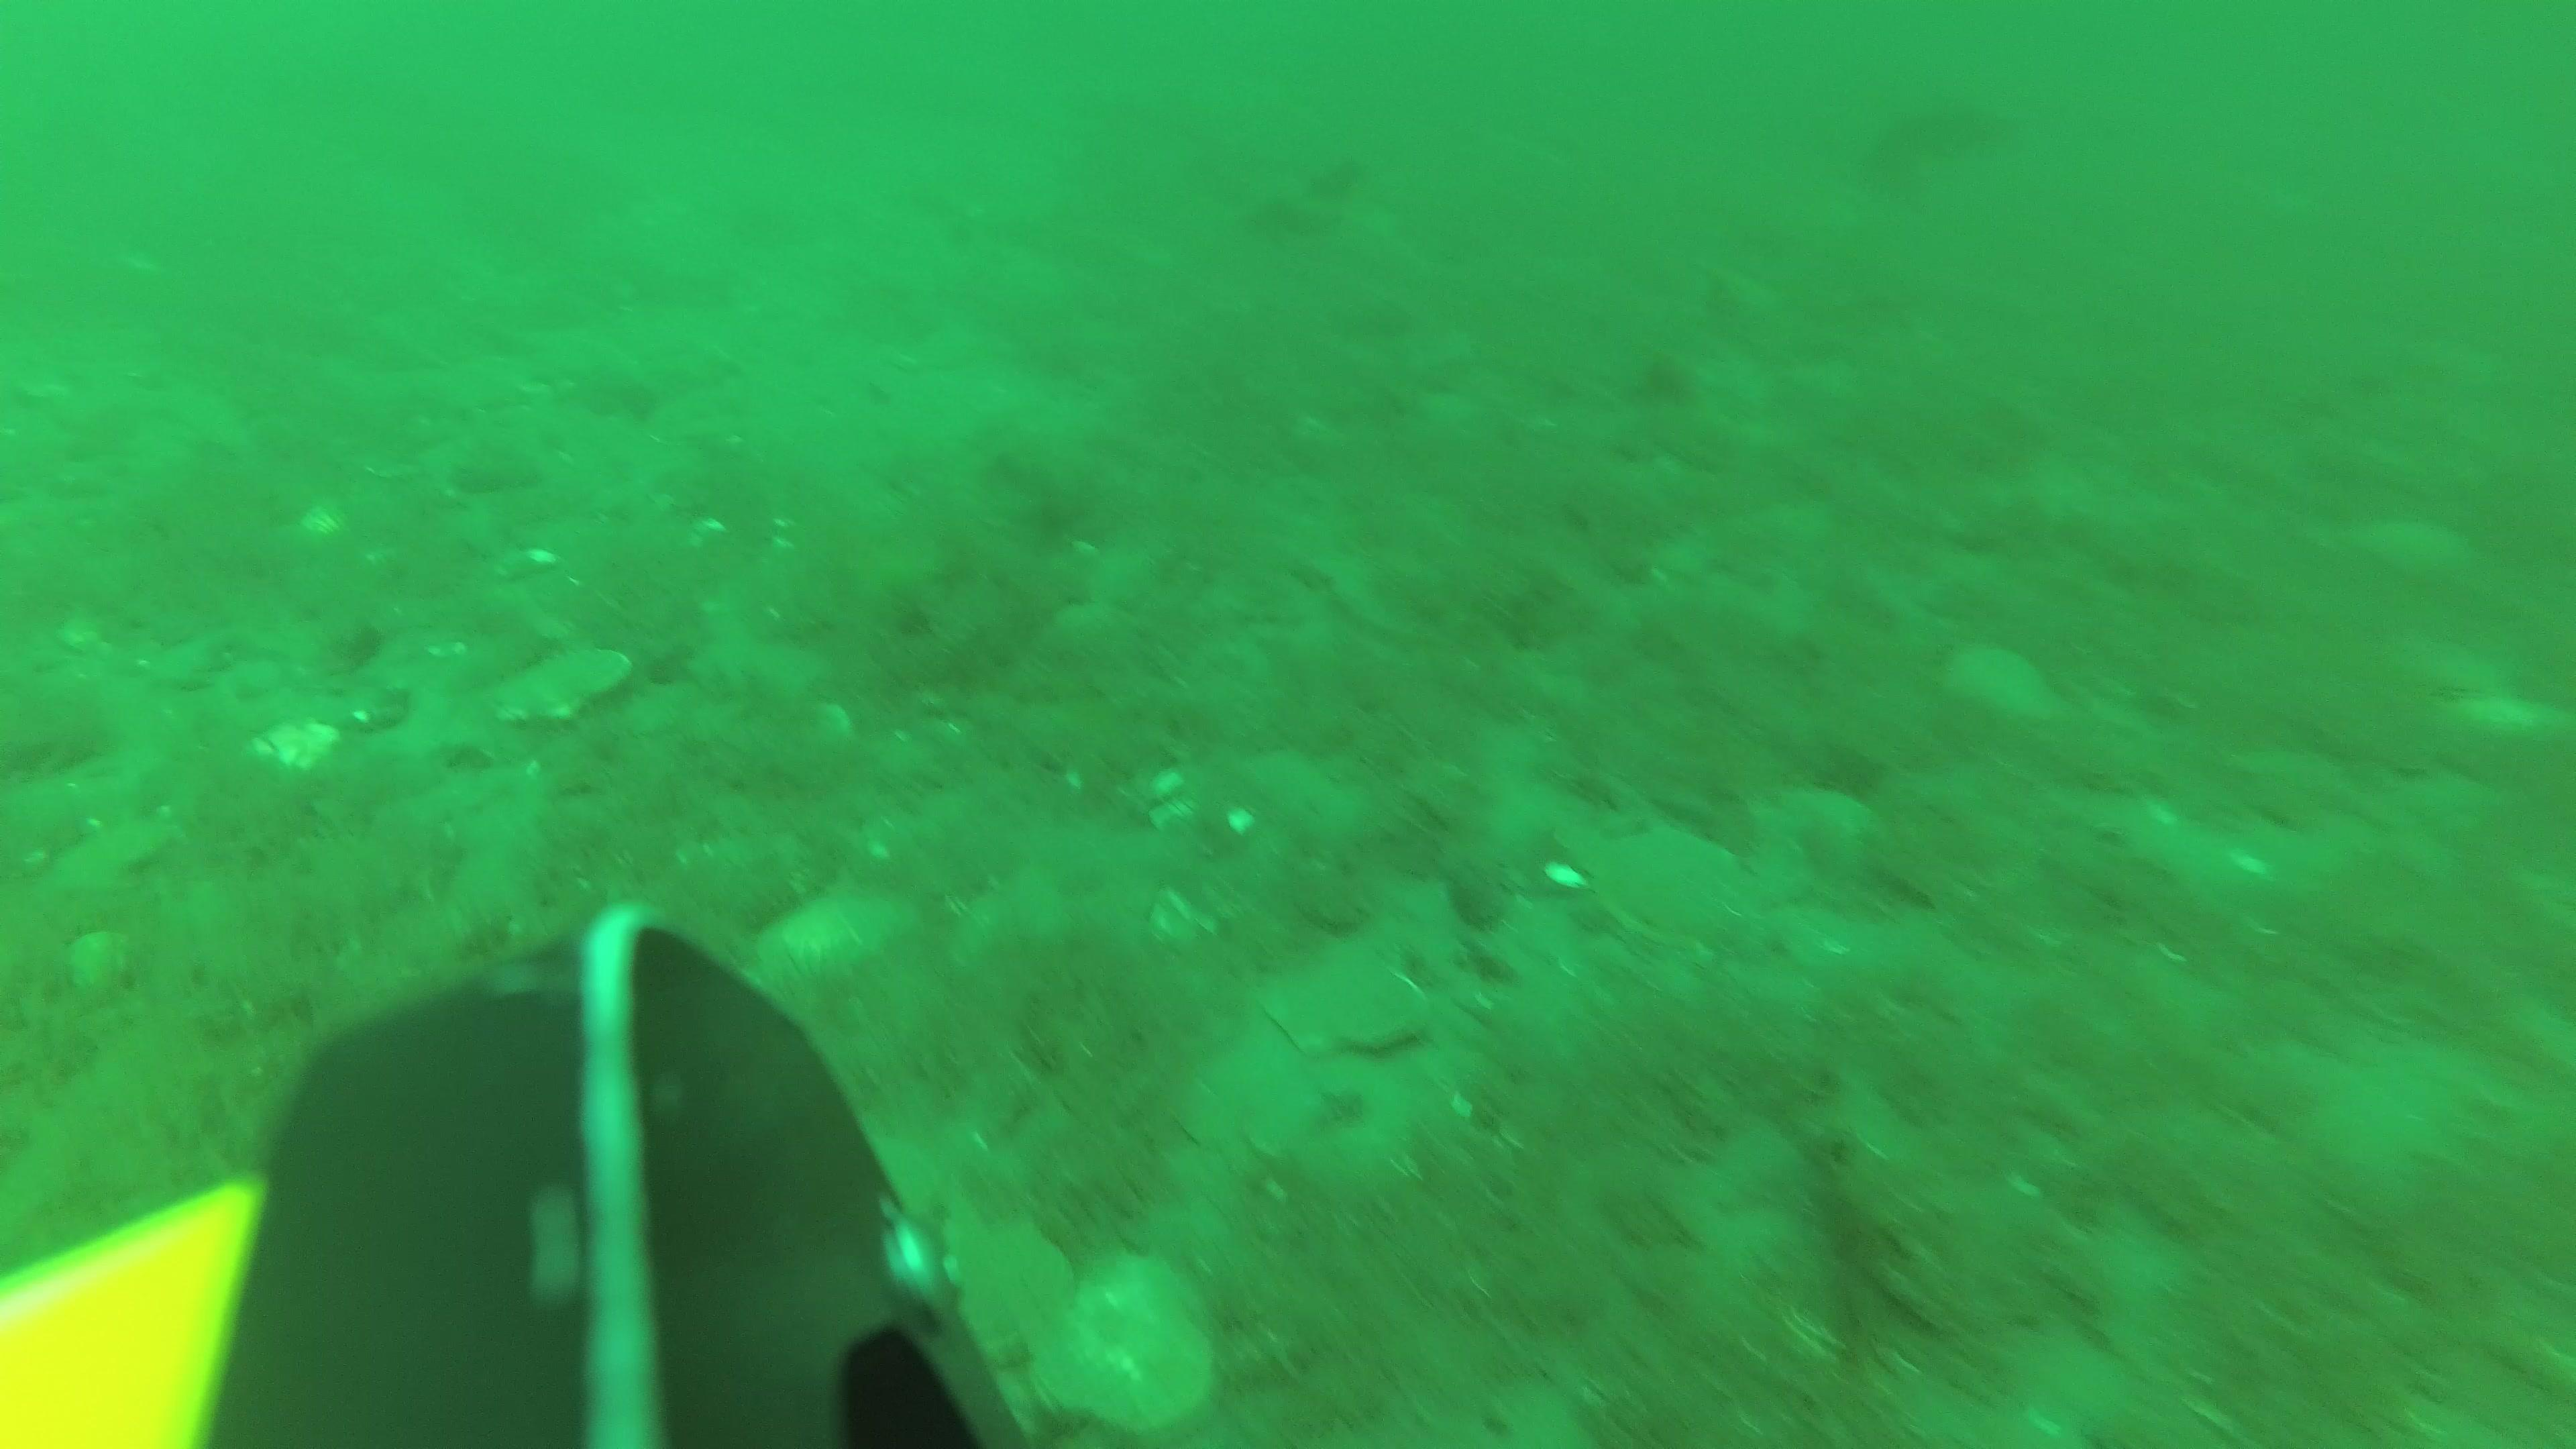scallop: (1039, 1253, 1219, 1438), (947, 1226, 1070, 1364), (1274, 954, 1430, 1056), (1601, 828, 1741, 941), (495, 649, 635, 725), (1951, 640, 2059, 734)
